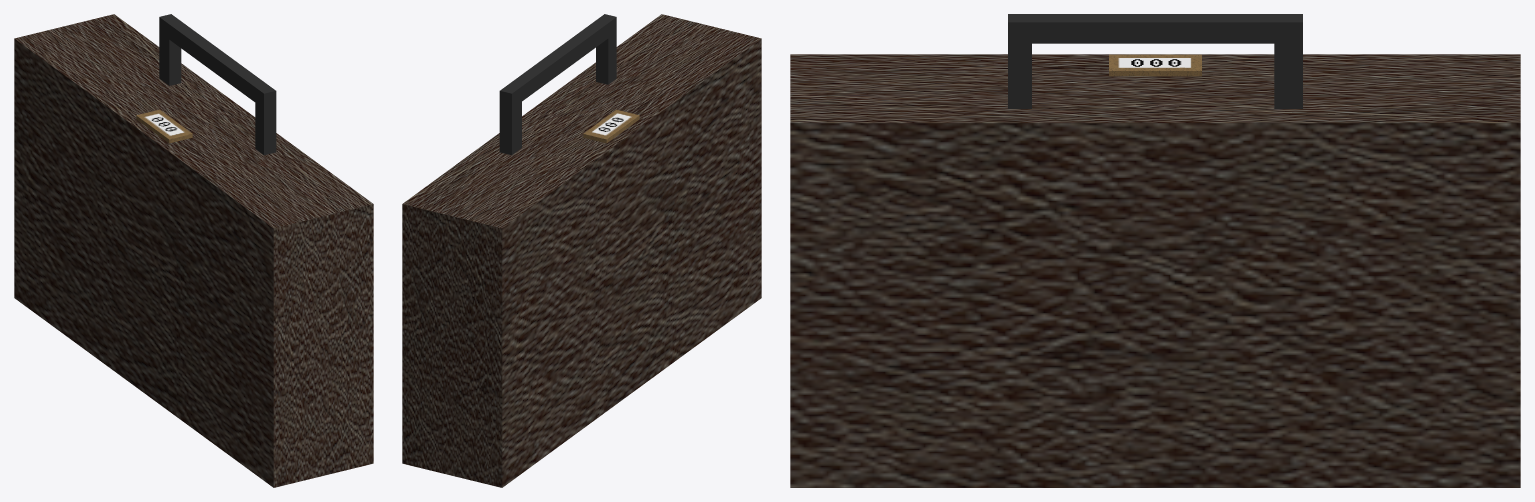
File: Brief Case.fbx
3 renders of one model, left to right at view 1: azimuth 30°, elevation 25°; view 2: azimuth 150°, elevation 25°; view 3: azimuth 270°, elevation 25°, orthographic. The views are drawn at different scales.
Parts seen in each view (by area): view 1: Cube, Cube.001, Cube.002; view 2: Cube, Cube.001, Cube.002; view 3: Cube, Cube.001, Cube.002.
Part boxes in pixels (x1,y1,x2,y2): Cube: (14,14,373,487); Cube.001: (159,14,276,155); Cube.002: (136,109,192,143); Cube: (402,14,761,487); Cube.001: (499,14,616,155); Cube.002: (583,109,639,143); Cube: (790,54,1520,487); Cube.001: (1008,14,1302,108); Cube.002: (1109,54,1201,76).
Size of the model in its own units: 80.57 by 247 by 362.
